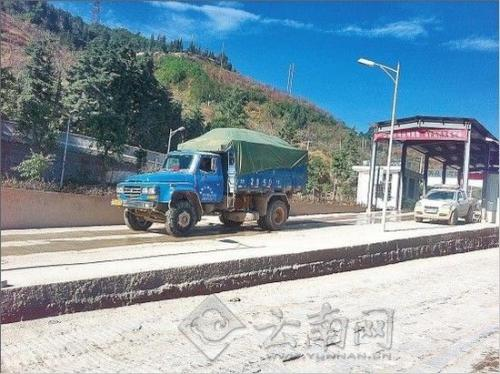chaozhai: (110, 120, 312, 244)
